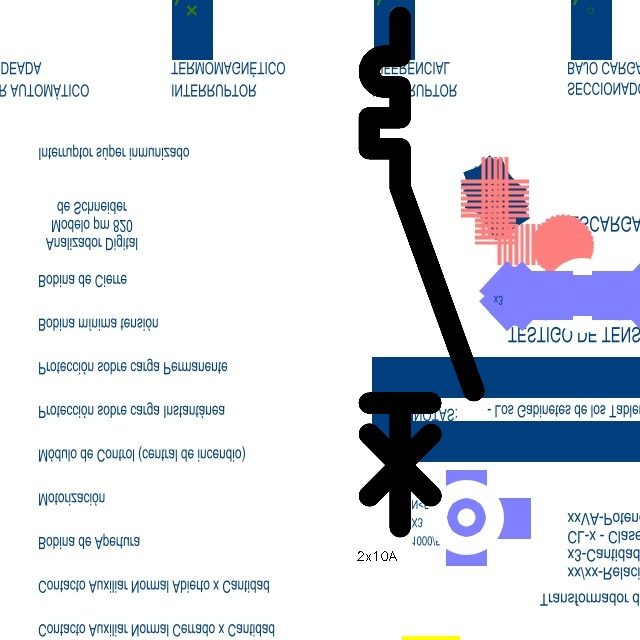interruptor_termomagnetico: (356, 4, 487, 540)
